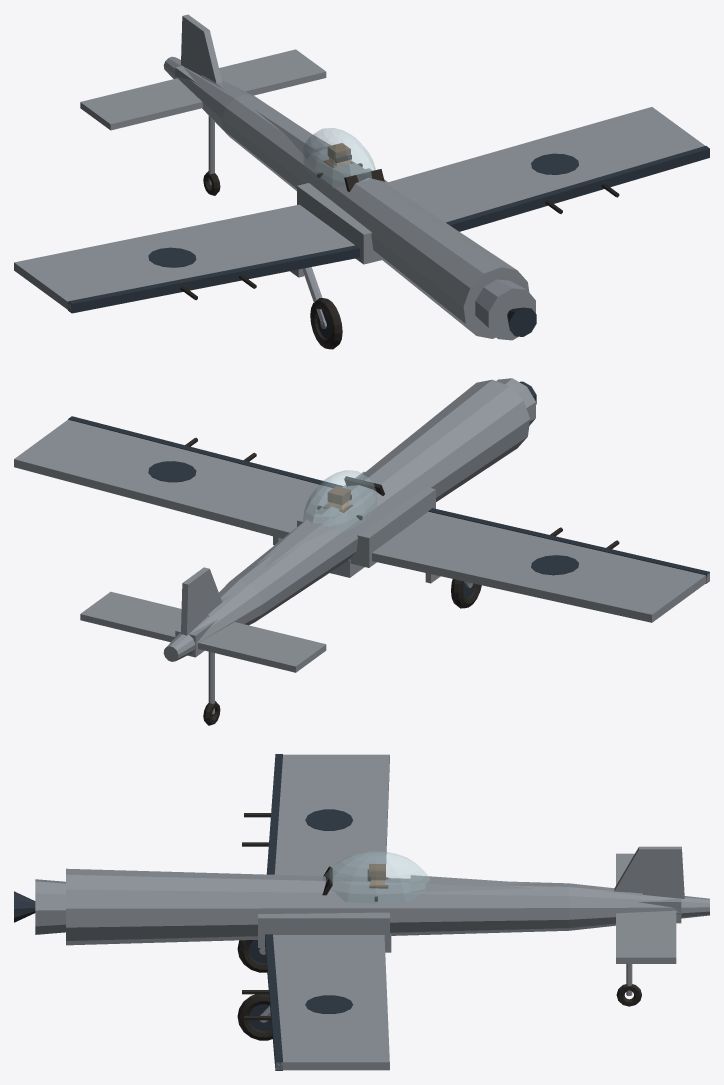
The model's file is body.glb.
3 views of the same model, one above another, from view 1: azimuth 30°, elevation 25°; view 2: azimuth 150°, elevation 25°; view 3: azimuth 270°, elevation 25° (orthographic).
Visible parts, largest first — view 1: wing_0, fuselage, wing_0_leading_edge, horizontal_stabilizer, canopy, wing_root_fairing, engine_nose, vertical_fin, tail_cone, turtledeck, tire, roundel_0_r (+2 smaller); view 2: wing_0, fuselage, horizontal_stabilizer, canopy, wing_0_leading_edge, tail_cone, wing_root_fairing, vertical_fin, turtledeck, roundel_0_r, roundel_0_l, engine_nose; view 3: fuselage, wing_0, canopy, horizontal_stabilizer, tail_cone, wing_root_fairing, vertical_fin, wing_0_leading_edge, engine_nose, turtledeck, roundel_0_l, tire (+1 smaller).
Part boxes in pixels (x1,y1,x2,y2): wing_0: [14, 107, 704, 312]; fuselage: [221, 94, 529, 338]; wing_0_leading_edge: [68, 146, 709, 313]; horizontal_stabilizer: [80, 49, 326, 130]; canopy: [303, 128, 375, 188]; wing_root_fairing: [297, 168, 421, 264]; engine_nose: [475, 279, 535, 340]; vertical_fin: [181, 14, 222, 83]; tail_cone: [163, 56, 254, 134]; turtledeck: [201, 75, 330, 158]; tire: [310, 298, 342, 349]; roundel_0_r: [531, 153, 578, 174]; wing_0: [14, 419, 709, 622]; fuselage: [230, 379, 530, 621]; horizontal_stabilizer: [80, 591, 326, 672]; canopy: [303, 470, 376, 531]; wing_0_leading_edge: [68, 416, 709, 583]; tail_cone: [163, 579, 262, 661]; wing_root_fairing: [297, 471, 435, 567]; vertical_fin: [181, 567, 222, 635]; turtledeck: [208, 513, 336, 616]; roundel_0_r: [148, 461, 196, 482]; roundel_0_l: [531, 555, 578, 575]; engine_nose: [497, 378, 535, 425]; fuselage: [66, 868, 568, 945]; wing_0: [273, 754, 389, 1070]; canopy: [322, 851, 429, 903]; horizontal_stabilizer: [616, 853, 676, 963]; tail_cone: [569, 883, 709, 930]; wing_root_fairing: [258, 912, 389, 947]; vertical_fin: [614, 846, 684, 898]; wing_0_leading_edge: [265, 754, 282, 1070]; engine_nose: [35, 879, 65, 934]; turtledeck: [410, 875, 642, 895]; roundel_0_l: [305, 809, 352, 830]; tire: [237, 994, 272, 1040].
Size of the model in its own units: 10.77 by 2.59 by 10.3.
